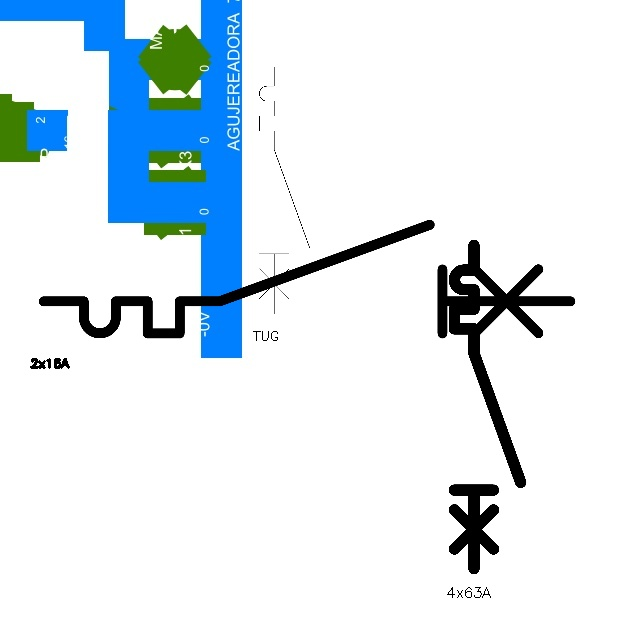interruptor_termomagnetico: (30, 211, 584, 347), (446, 237, 529, 577), (253, 61, 316, 319)
